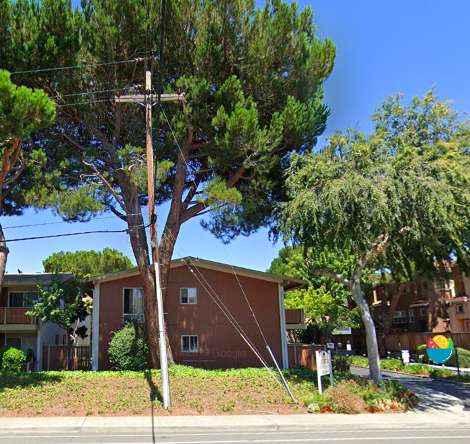utility_pole: (107, 62, 188, 142)
